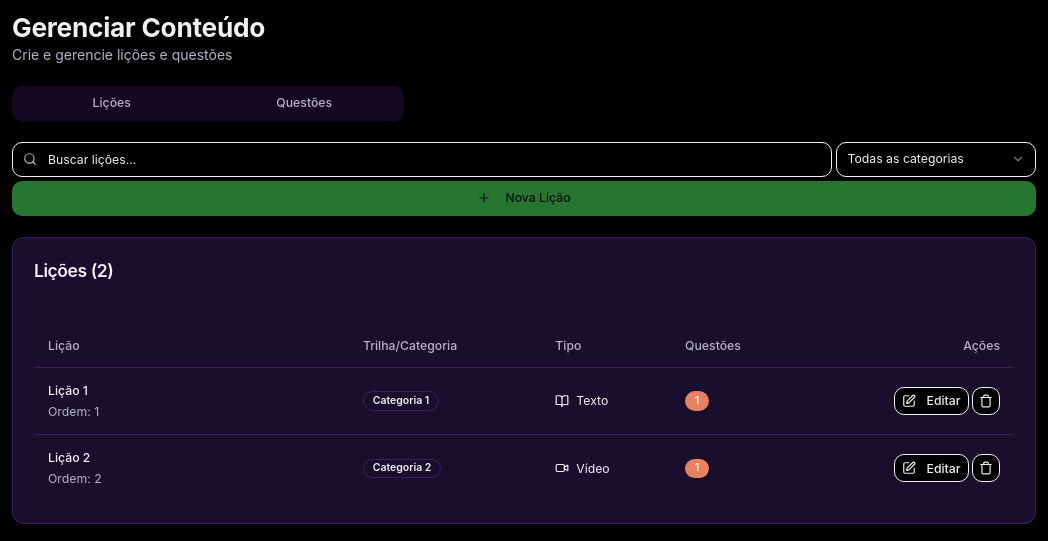
Test: AdminContent Component › filters lessons by search term
Expected: the text "Lição 1" is shown, [48,382,88,398]
In the field with placeholder "Buscar lições...": (422, 159) [12,142,832,176], type "Lição 2"
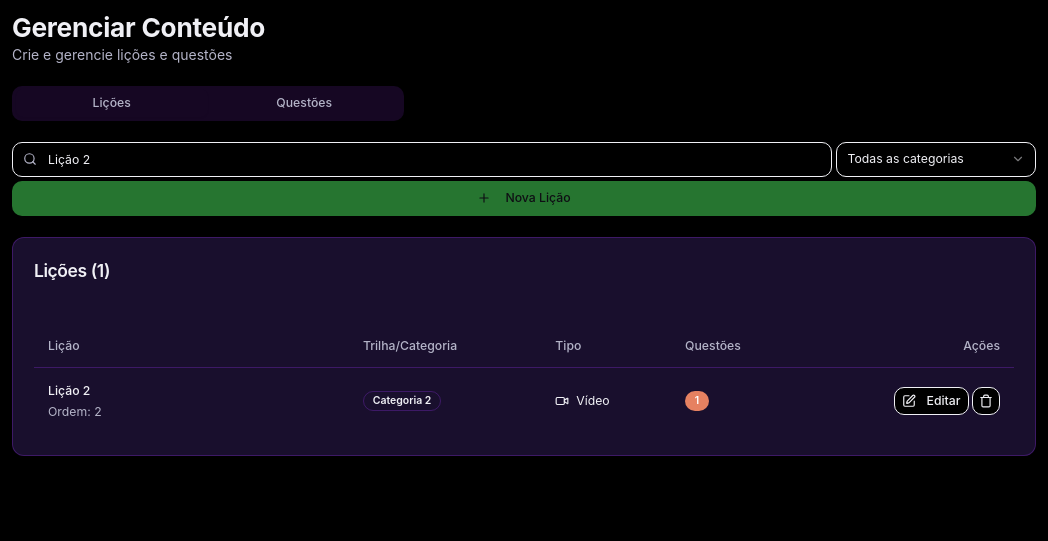
Expected: the text "Lição 2" is shown, [48,382,90,398]
Expected: the text "Lição 1" is gone
